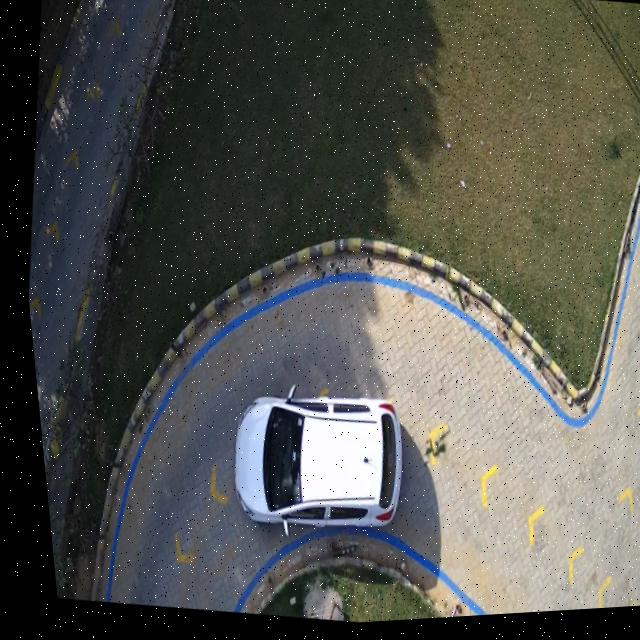car: (220, 394, 397, 535)
